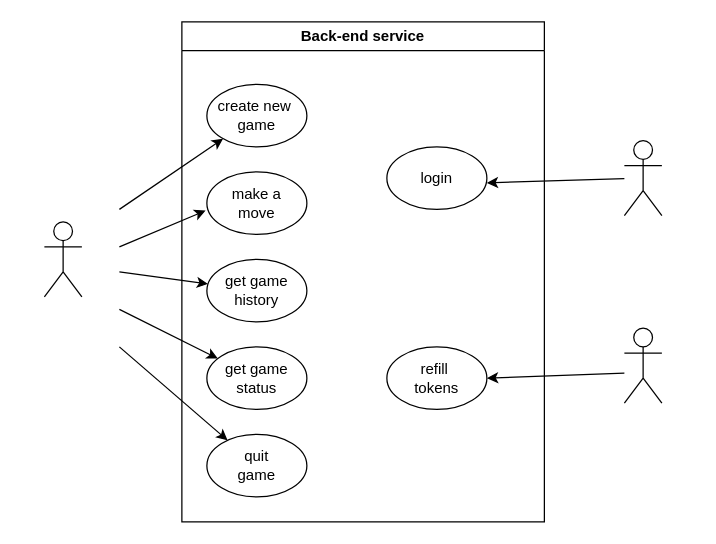
This 716x544 diagram has some shape labels left out. The shapes that lost their labels are listed below. From the top down, each one's centre as x and y in pixels, then its label:
At point (642, 177): "Client (no JWT)".
At point (62, 259): "Client (JWT)".
At point (642, 365): "Admin (JWT)".
